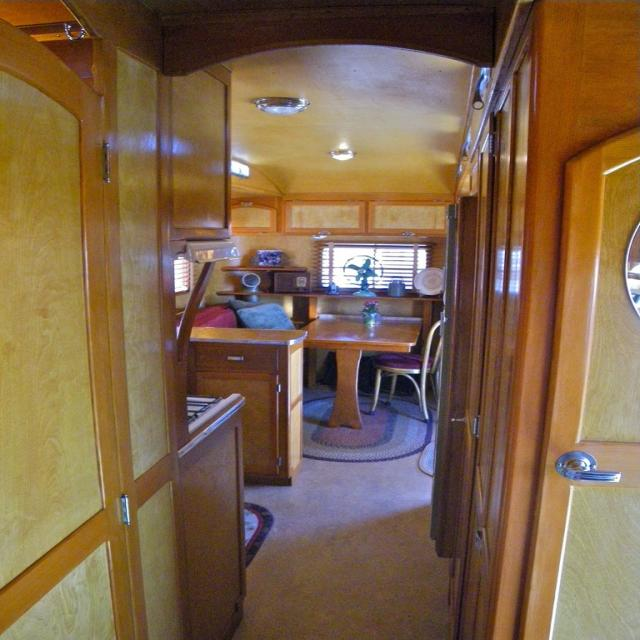chair: (370, 314, 447, 420)
desk: (306, 320, 422, 422)
